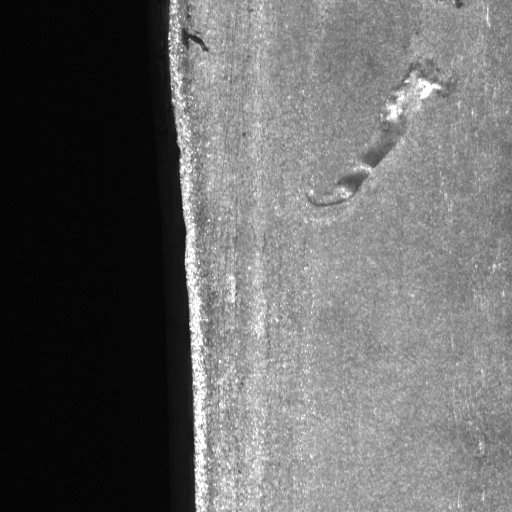hengxiangliewen: (304, 59, 454, 210)
